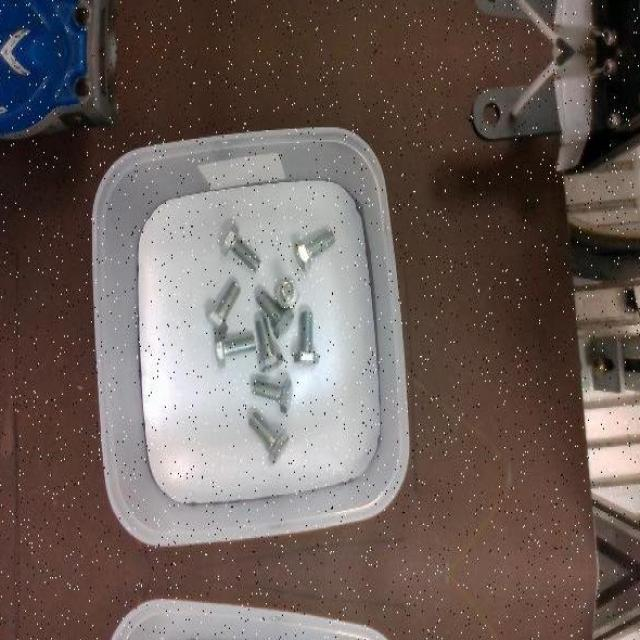screw: (248, 411, 290, 463), (205, 280, 241, 333), (222, 224, 262, 271), (256, 291, 295, 338), (294, 229, 335, 272), (256, 316, 285, 372), (252, 376, 293, 413), (216, 333, 257, 368), (294, 309, 320, 364), (276, 279, 300, 309)
